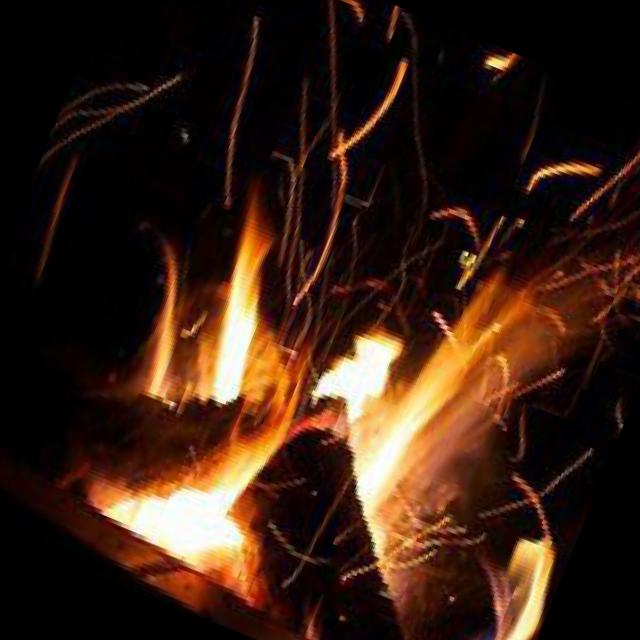fire: (45, 157, 640, 640)
